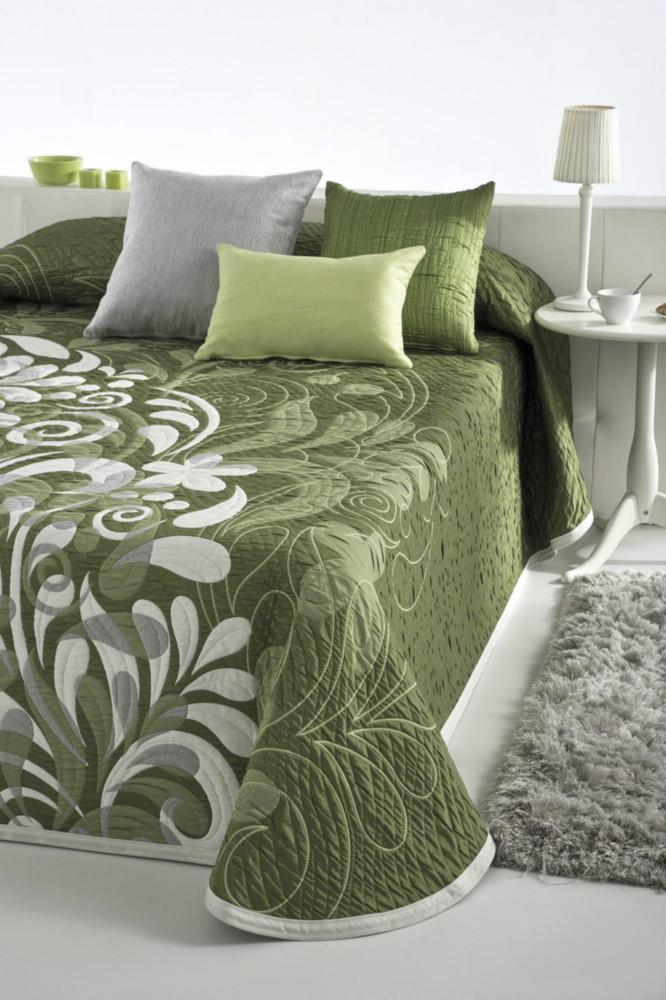bed: (0, 120, 492, 698)
